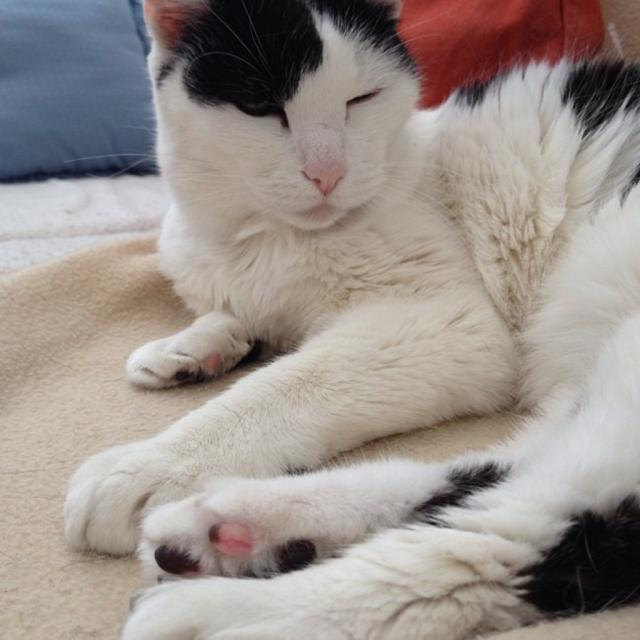Cat: (62, 0, 639, 639)
